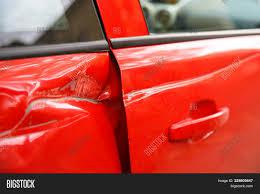doorouter-dent: (115, 43, 258, 174), (0, 51, 114, 175)
